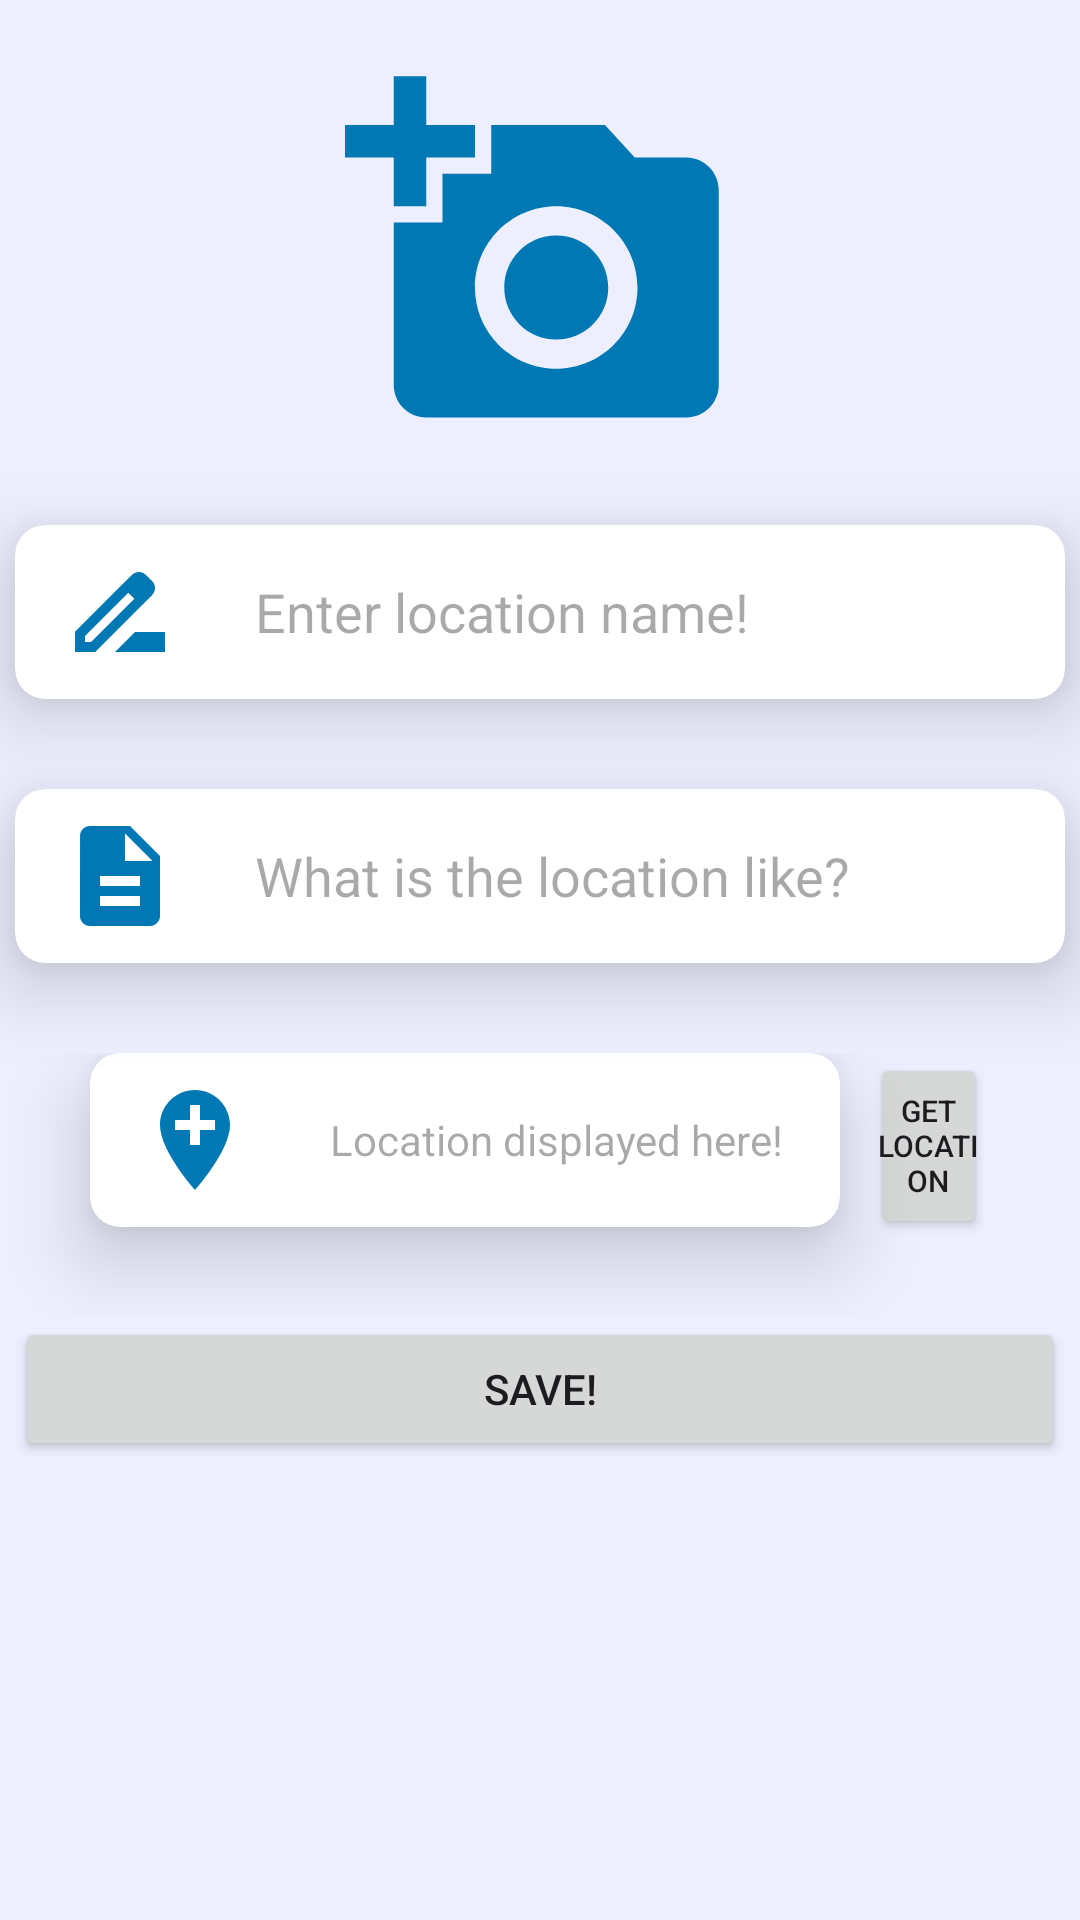

Point at icon controls on the screen. Image size 1080 × 1920, points as (x=x, y=y).
add location: (x=195, y=1140)
descriptionicon: (x=120, y=876)
